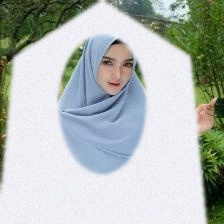Mukena: (0, 27, 211, 224)
